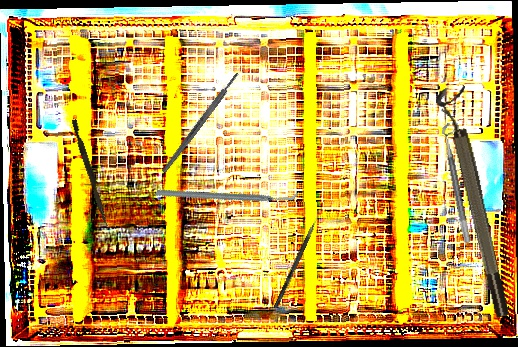Chopper: (154, 135, 300, 252)
Fixation Ring: (433, 84, 514, 321), (440, 121, 481, 244)
Hook Surgical: (273, 205, 324, 310)
Pusher: (68, 119, 113, 227)
Scalpel Handle: (160, 71, 241, 174)
